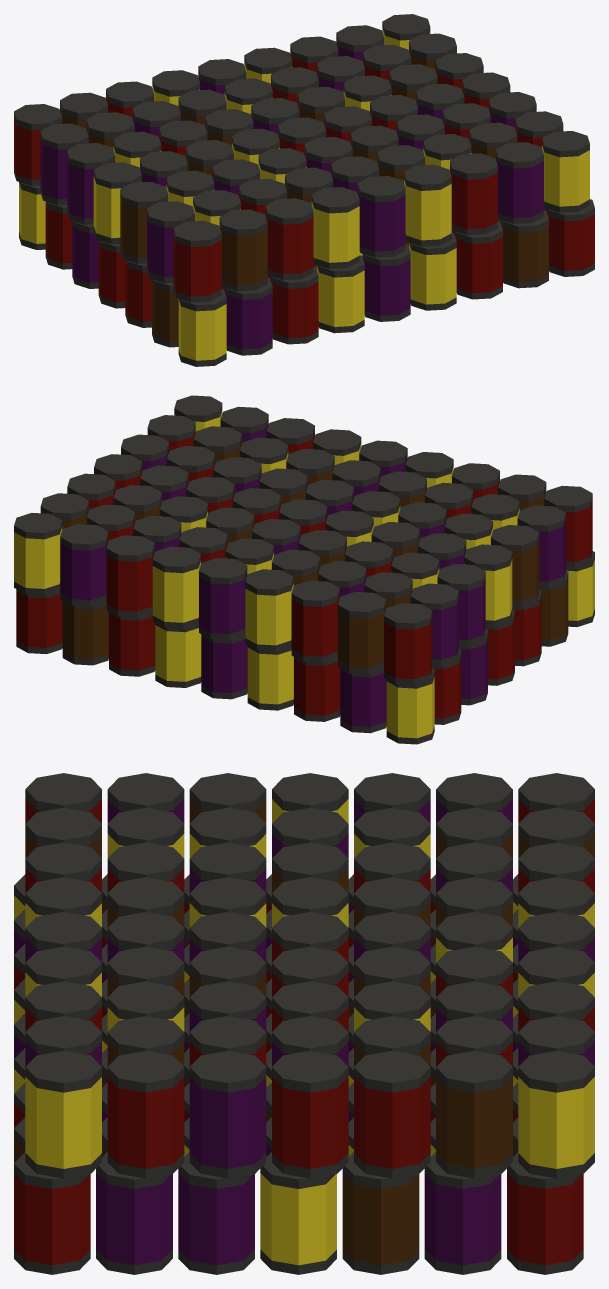
The model's file is SM_FullShelf_Cans.fbx.
3 views of the same model, one above another, from view 1: azimuth 30°, elevation 25°; view 2: azimuth 150°, elevation 25°; view 3: azimuth 270°, elevation 25° (orthographic). The views are drawn at different scales.
Parts seen in each view (by area): view 1: SM_Can_Var133; view 2: SM_Can_Var133; view 3: SM_Can_Var133.
Boxes of the visible parts, x1,y1,x2,y2 form: SM_Can_Var133: (14,14,594,366); SM_Can_Var133: (14,395,594,744); SM_Can_Var133: (14,773,594,1274).
Bounding box in the file's own units: 0.8962 × 0.2563 × 0.7073.
